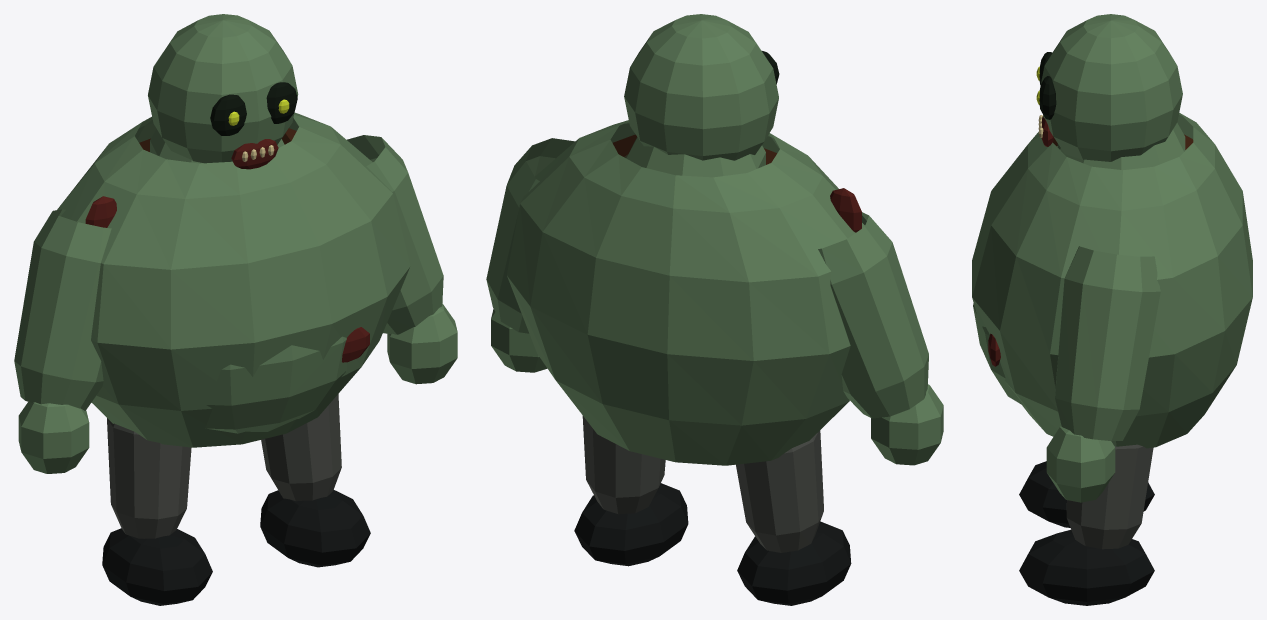
File: Zombie_Fat_Dummy.obj
3 views of the same model, side by side, from view 1: azimuth 30°, elevation 25°; view 2: azimuth 150°, elevation 25°; view 3: azimuth 270°, elevation 25° (orthographic). The views are drawn at different scales.
Visible parts, largest first — view 1: massive_torso, head, left_arm, belly_front, left_short_leg, right_arm, left_boot, right_boot, right_short_leg, left_hand, right_hand, left_eye_socket (+5 smaller); view 2: massive_torso, head, left_arm, left_short_leg, left_boot, right_boot, right_short_leg, right_arm, left_hand, neck, right_hand, shoulder_wound; view 3: massive_torso, right_arm, head, right_boot, right_short_leg, right_hand, left_boot, neck, belly_front, right_eye_socket.
Part boxes in pixels (x1,y1,x2,y2): massive_torso: (57,112,410,447); head: (148,14,298,163); left_arm: (14,209,111,410); belly_front: (205,336,347,433); left_short_leg: (107,418,191,538); right_arm: (347,135,443,334); left_boot: (102,528,212,605); right_boot: (260,490,370,567); right_short_leg: (261,394,341,501); left_hand: (18,402,89,473); right_hand: (387,303,457,384); left_eye_socket: (210,94,246,135); massive_torso: (507,120,864,465); head: (624,14,778,160); left_arm: (818,212,928,418); left_short_leg: (736,430,823,552); left_boot: (737,521,851,605); right_boot: (574,483,688,566); right_short_leg: (582,415,665,514); right_arm: (486,138,574,333); left_hand: (871,384,943,465); neck: (626,137,765,177); right_hand: (491,309,547,372); shoulder_wound: (830,188,861,232); massive_torso: (972,113,1252,448); right_arm: (1055,246,1160,440); head: (1039,14,1182,161); right_boot: (1019,529,1154,605); right_short_leg: (1066,444,1153,549); right_hand: (1046,425,1115,502); left_boot: (1019,461,1154,527); neck: (1057,123,1185,169); belly_front: (973,303,1024,406); right_eye_socket: (1039,76,1056,119).
Bounding box in the file's own units: 1.65 × 1.99 × 0.936.
